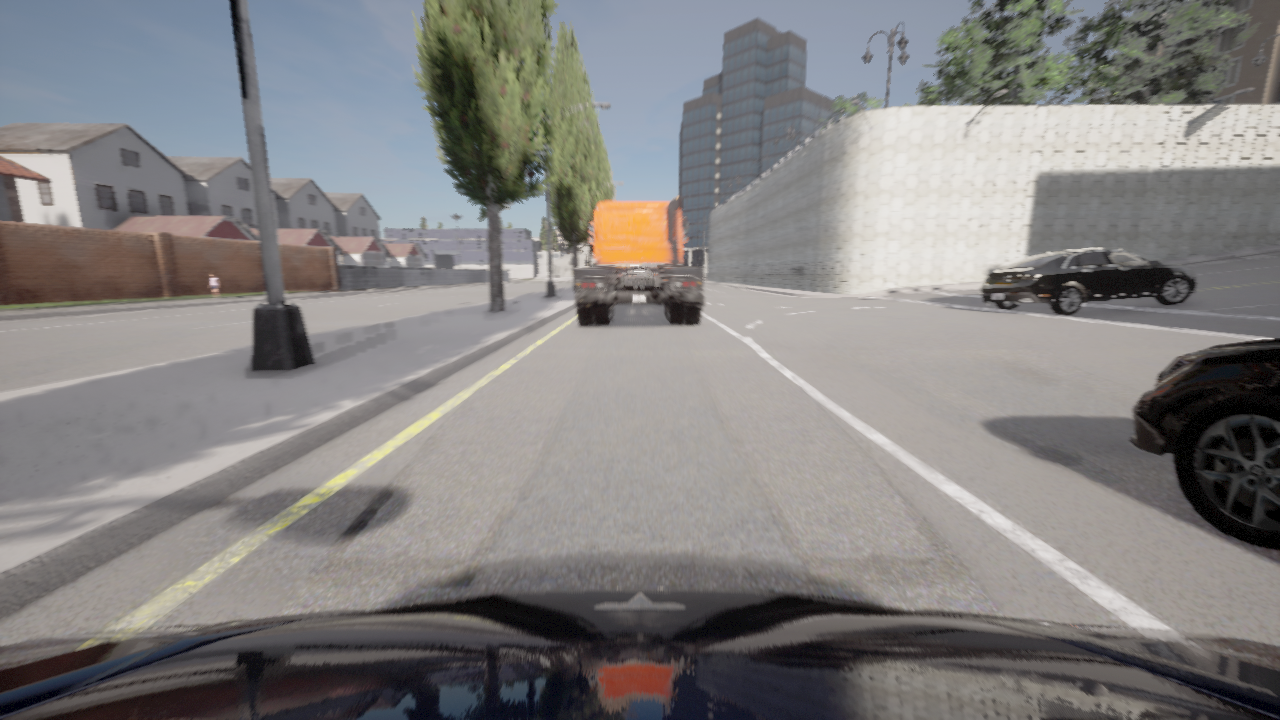cyclist: (0, 588, 1279, 719), (1130, 339, 1279, 550), (575, 197, 703, 325), (980, 248, 1197, 315)
pedestrian: (209, 272, 220, 299)
